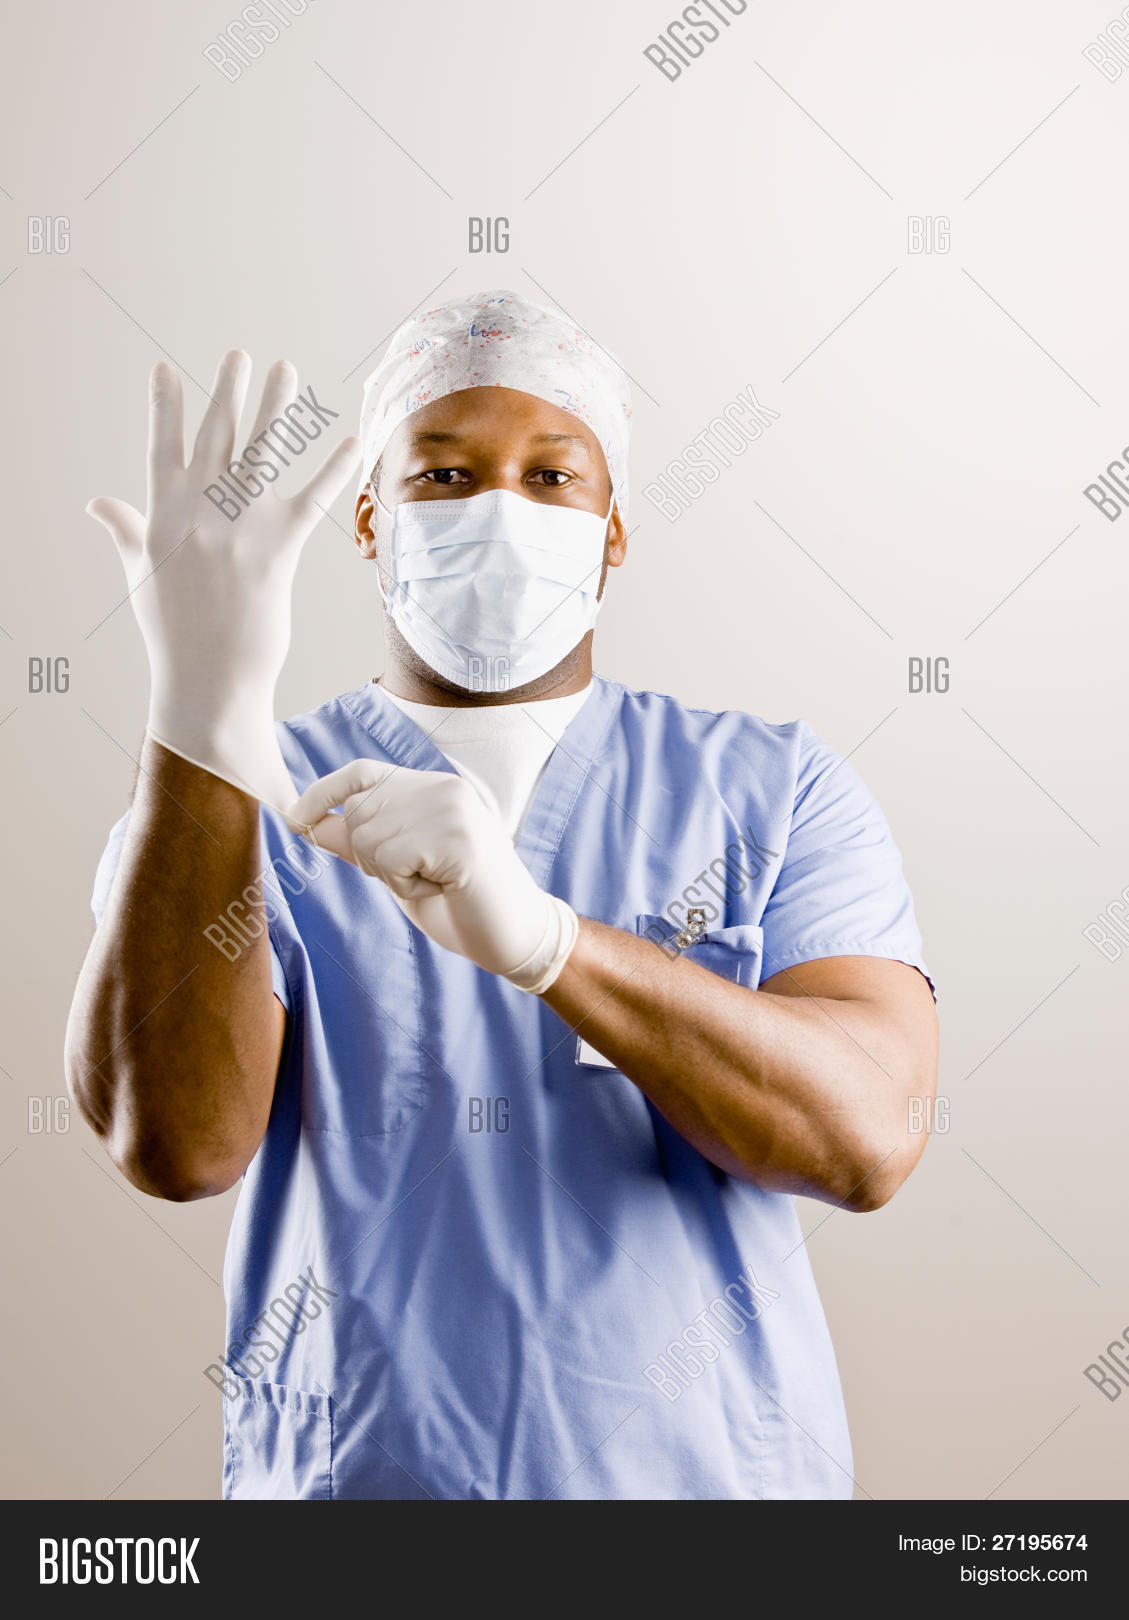Gloves: (86, 350, 346, 777), (279, 753, 579, 1010)
with_mask: (390, 440, 615, 701)
